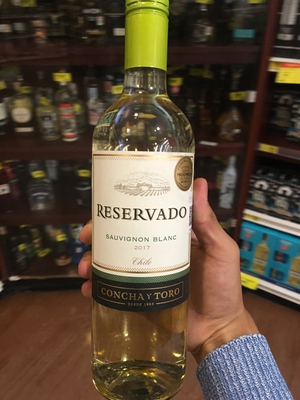reservado sauvignon blanc: (84, 12, 204, 396)
